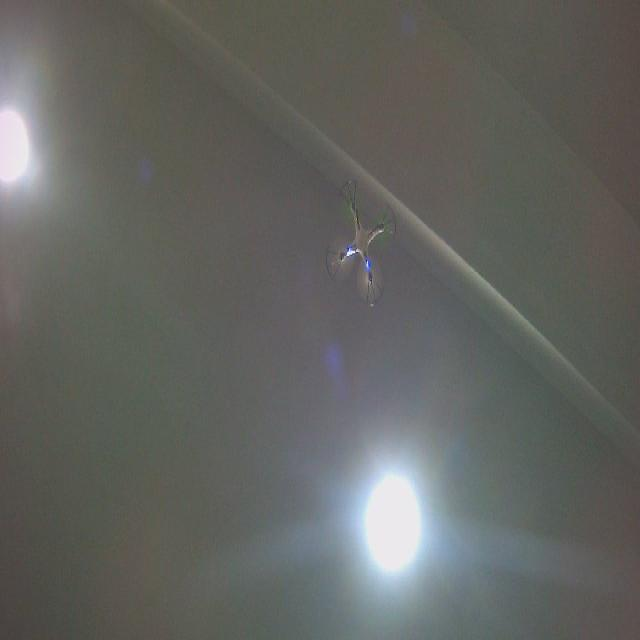drone: (323, 176, 399, 308)
